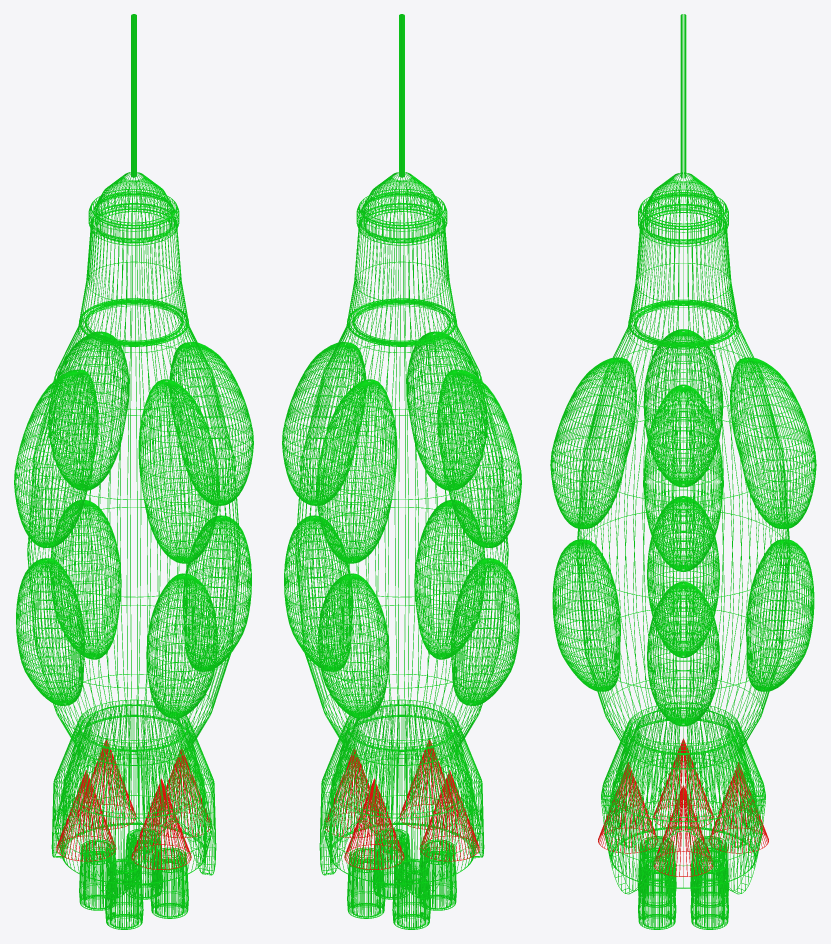
Rendered from virus-missile-highlight-atmospheric-resistance-sensors.glb.
The picture shows the model from 3 angles, left to right: view 1: azimuth 30°, elevation 25°; view 2: azimuth 150°, elevation 25°; view 3: azimuth 270°, elevation 25°; orthographic projection.
Parts seen in each view (by area): view 1: chassis technical wire, binary-agent-pods technical wire, main-thrusters technical wire, atmospheric-resistance-sensors technical wire; view 2: chassis technical wire, binary-agent-pods technical wire, main-thrusters technical wire, atmospheric-resistance-sensors technical wire; view 3: binary-agent-pods technical wire, chassis technical wire, atmospheric-resistance-sensors technical wire, main-thrusters technical wire.
Boxes of the visible parts, <box> form: chassis technical wire: <box>27,14,240,898</box>; binary-agent-pods technical wire: <box>14,331,253,718</box>; main-thrusters technical wire: <box>79,828,188,929</box>; atmospheric-resistance-sensors technical wire: <box>56,739,211,869</box>; chassis technical wire: <box>295,14,508,898</box>; binary-agent-pods technical wire: <box>282,331,521,718</box>; main-thrusters technical wire: <box>347,828,456,929</box>; atmospheric-resistance-sensors technical wire: <box>324,739,479,869</box>; binary-agent-pods technical wire: <box>550,329,816,726</box>; chassis technical wire: <box>576,14,790,894</box>; atmospheric-resistance-sensors technical wire: <box>598,738,768,876</box>; main-thrusters technical wire: <box>638,836,728,929</box>.
Size of the model in its own units: 1.78 by 6.61 by 1.78.
